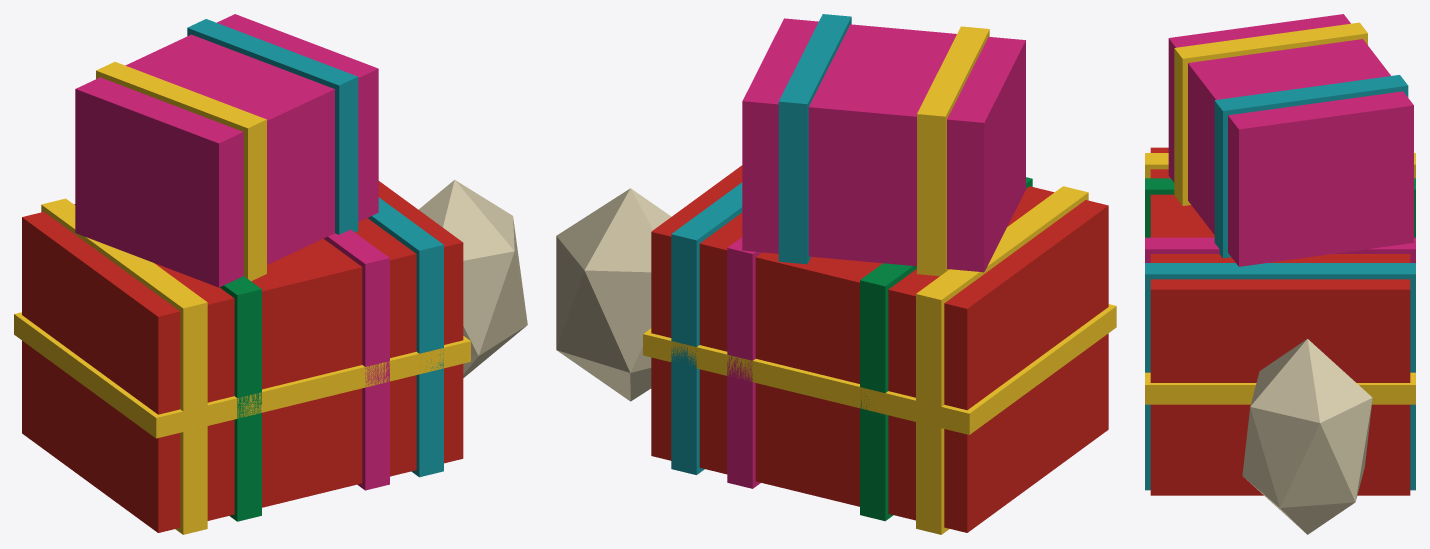
File: Carga con aguayo.fbx
3 renders of one model, left to right at view 1: azimuth 30°, elevation 25°; view 2: azimuth 150°, elevation 25°; view 3: azimuth 270°, elevation 25°, orthographic. The views are drawn at different scales.
Visible parts, largest first — view 1: Carga con aguayo; view 2: Carga con aguayo; view 3: Carga con aguayo.
Boxes of the visible parts, x1,y1,x2,y2 form: Carga con aguayo: (14,14,527,534); Carga con aguayo: (556,14,1116,534); Carga con aguayo: (1145,14,1415,534).
Size of the model in its own units: 0.9121 by 0.73 by 0.5.
